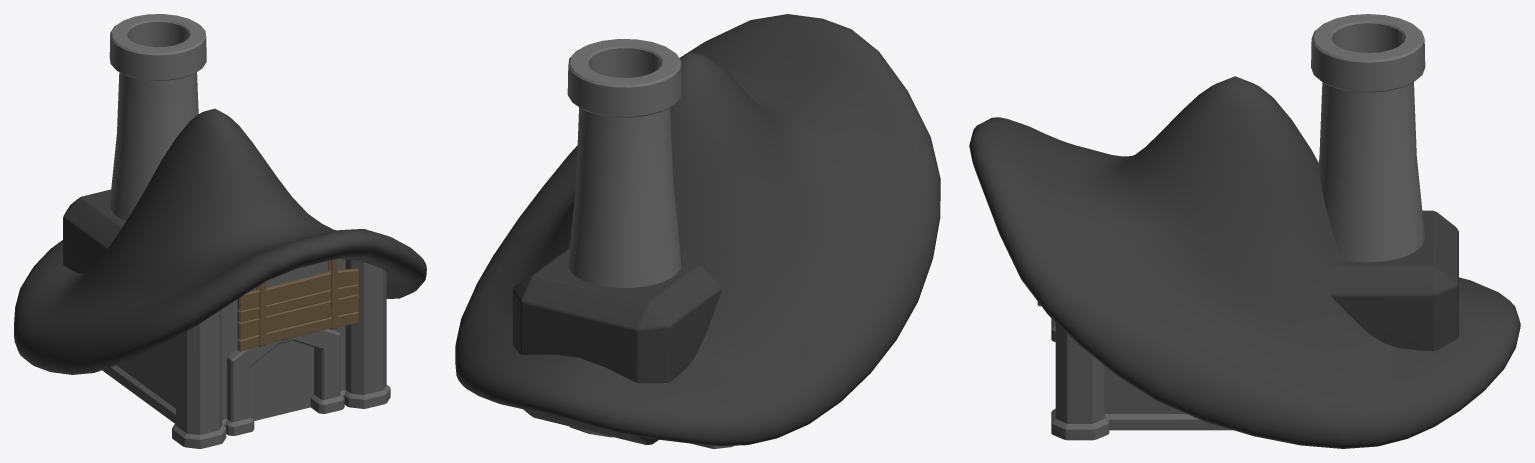
The model's file is BirdHouse_Mesh.fbx.
3 views of the same model, side by side, from view 1: azimuth 30°, elevation 25°; view 2: azimuth 150°, elevation 25°; view 3: azimuth 270°, elevation 25° (orthographic). The views are drawn at different scales.
Parts seen in each view (by area): view 1: Bird_House_Roof, Bird_House_Body, Bird_House_Chi, Bird_House_Sign, Bird_House_Chi_Base; view 2: Bird_House_Roof, Bird_House_Chi, Bird_House_Chi_Base; view 3: Bird_House_Roof, Bird_House_Chi, Bird_House_Chi_Base, Bird_House_Body.
Part boxes in pixels (<box>): Bird_House_Roof: <box>14,108,426,374</box>; Bird_House_Body: <box>102,258,390,448</box>; Bird_House_Chi: <box>109,14,206,220</box>; Bird_House_Sign: <box>237,258,358,351</box>; Bird_House_Chi_Base: <box>63,189,126,273</box>; Bird_House_Roof: <box>455,14,940,446</box>; Bird_House_Chi: <box>567,39,681,437</box>; Bird_House_Chi_Base: <box>512,246,721,445</box>; Bird_House_Roof: <box>969,76,1520,448</box>; Bird_House_Chi: <box>1311,14,1425,262</box>; Bird_House_Chi_Base: <box>1330,210,1458,351</box>; Bird_House_Body: <box>1051,318,1232,440</box>.
Size of the model in its own units: 315 by 270 by 393.
